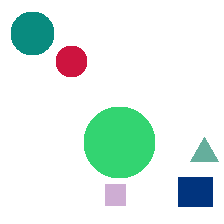circle: (84, 107, 154, 177), (11, 12, 53, 54), (56, 46, 86, 76)
rectangle: (178, 177, 212, 206), (105, 184, 125, 205)
triangle: (190, 137, 218, 161)
